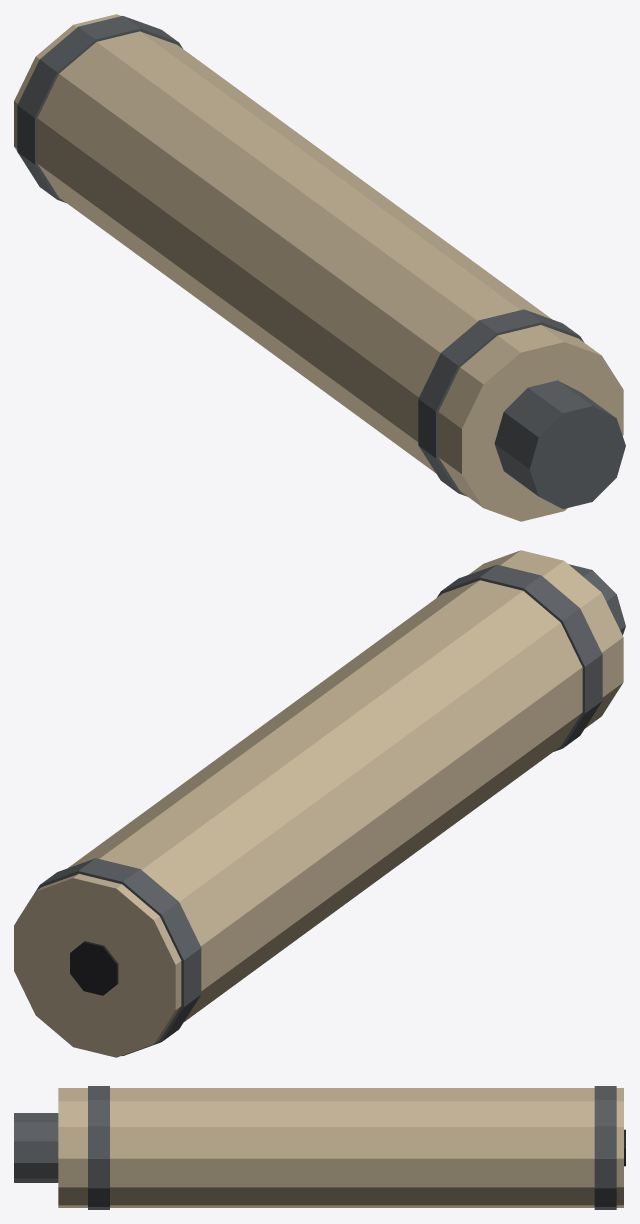
Rendered from suppressor.glb.
3 views of the same model, one above another, from view 1: azimuth 30°, elevation 25°; view 2: azimuth 150°, elevation 25°; view 3: azimuth 270°, elevation 25° (orthographic). The views are drawn at different scales.
Visible parts, largest first — view 1: body; view 2: body; view 3: body.
Boxes of the visible parts, box(x1,y1,x2,y2) form: body: box(14, 14, 625, 521); body: box(14, 550, 625, 1057); body: box(14, 1086, 625, 1209).
Bounding box in the file's own units: 0.0328 × 0.0328 × 0.1655.
